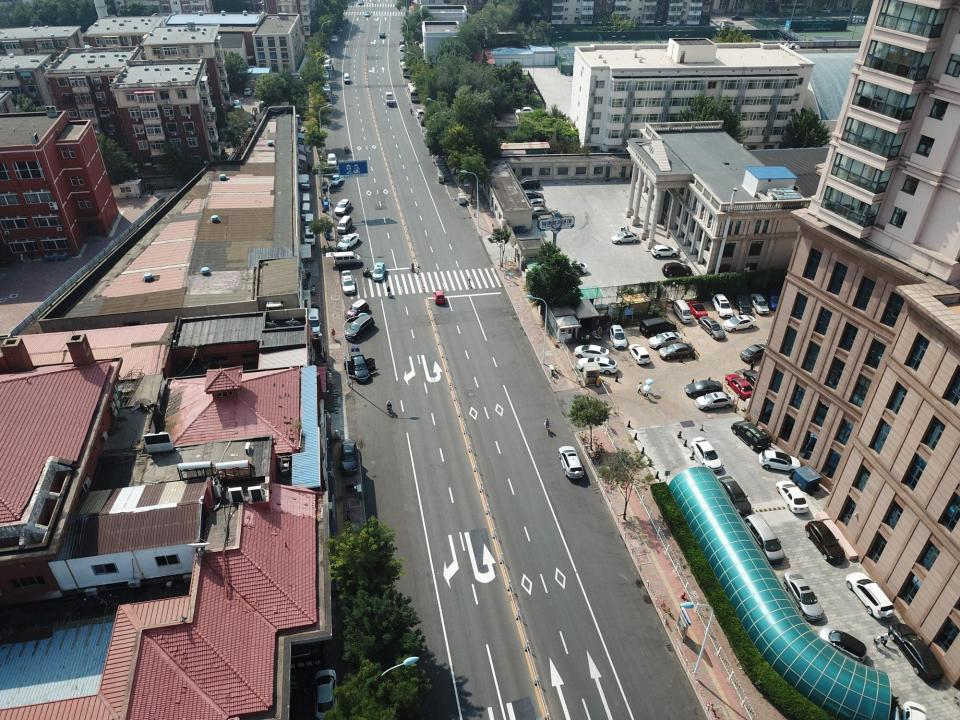car: (888, 623, 946, 681), (846, 571, 895, 620), (782, 570, 824, 624), (813, 626, 869, 665), (306, 666, 344, 719), (805, 518, 845, 565), (718, 474, 752, 514), (754, 446, 802, 474), (690, 437, 723, 474), (775, 478, 808, 514), (344, 354, 376, 386), (557, 445, 587, 479), (344, 314, 376, 342), (694, 392, 736, 412), (724, 372, 754, 400), (685, 377, 723, 398), (657, 342, 696, 362), (577, 356, 617, 375), (738, 339, 771, 362), (338, 438, 358, 474), (699, 316, 725, 341), (573, 342, 609, 360), (722, 315, 758, 332), (648, 331, 682, 349), (712, 292, 734, 318), (558, 260, 588, 278), (347, 298, 370, 321), (627, 344, 651, 366), (734, 294, 755, 318), (609, 322, 627, 350), (745, 368, 767, 390), (749, 292, 771, 314), (688, 300, 710, 322), (764, 288, 785, 310), (336, 232, 360, 251), (651, 243, 679, 259), (661, 262, 693, 276), (339, 270, 357, 294), (528, 206, 554, 220), (611, 232, 640, 244), (515, 176, 541, 189), (520, 188, 545, 201), (333, 198, 352, 215), (519, 198, 545, 209), (371, 262, 386, 280), (302, 227, 317, 245), (432, 289, 446, 304), (515, 107, 535, 116), (330, 174, 342, 187), (326, 153, 337, 167), (418, 115, 431, 126), (232, 99, 242, 111), (321, 90, 331, 102), (415, 108, 426, 118), (321, 70, 330, 81), (243, 86, 253, 95), (322, 82, 330, 93), (310, 281, 316, 294), (398, 44, 408, 51), (398, 39, 406, 47), (322, 60, 330, 68), (398, 56, 408, 62), (378, 31, 386, 38), (331, 35, 338, 43), (334, 25, 340, 34), (324, 56, 331, 63), (357, 0, 365, 6), (364, 10, 370, 17)
truck: (383, 91, 397, 107)
van: (740, 513, 785, 563), (731, 418, 772, 451), (641, 315, 678, 337), (323, 251, 363, 267), (674, 296, 693, 324), (404, 81, 422, 102), (337, 216, 353, 233), (302, 214, 316, 230), (400, 59, 412, 76), (300, 202, 312, 218), (300, 174, 312, 188), (301, 192, 311, 208), (343, 72, 351, 85)
